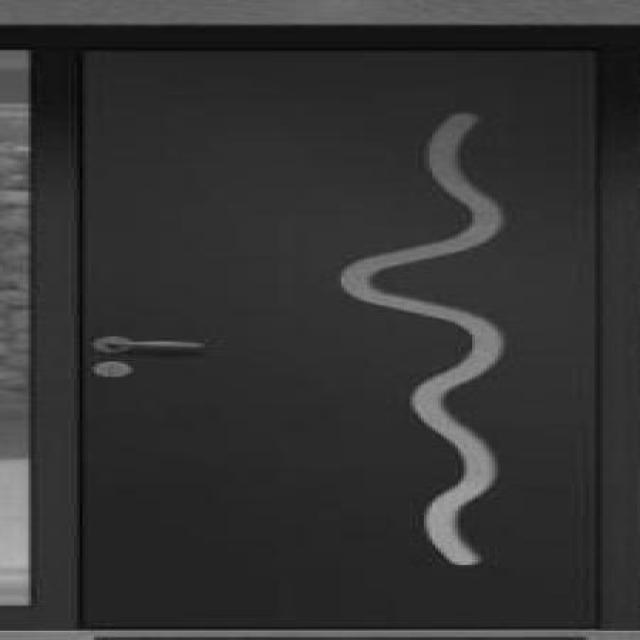door_handle: (89, 337, 210, 355)
